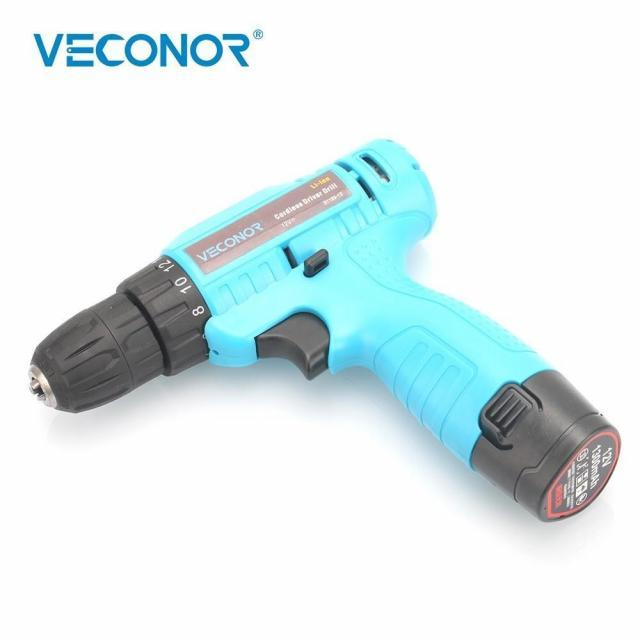drill: (28, 138, 622, 524)
